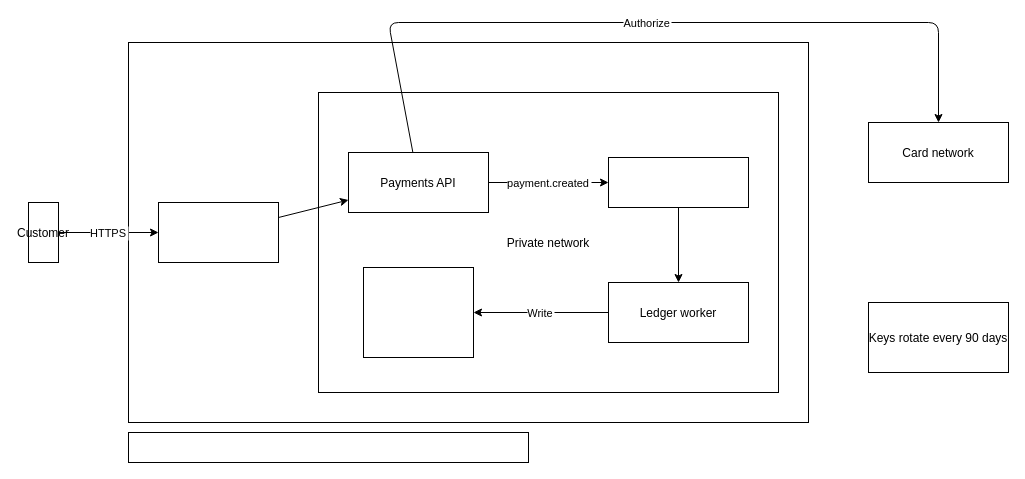
This 1025x479 diagram has some shape labels left out. The shapes that lost their labels are listed below. From the top down, each one's centre as x and y in pixels, then its label:
At point 678,182: "Payment events".
At point 218,232: "Web application firewall".
At point 418,312: "Ledger database".
At point 328,447: "All traffic between zones uses TLS 1.2 or later.".
